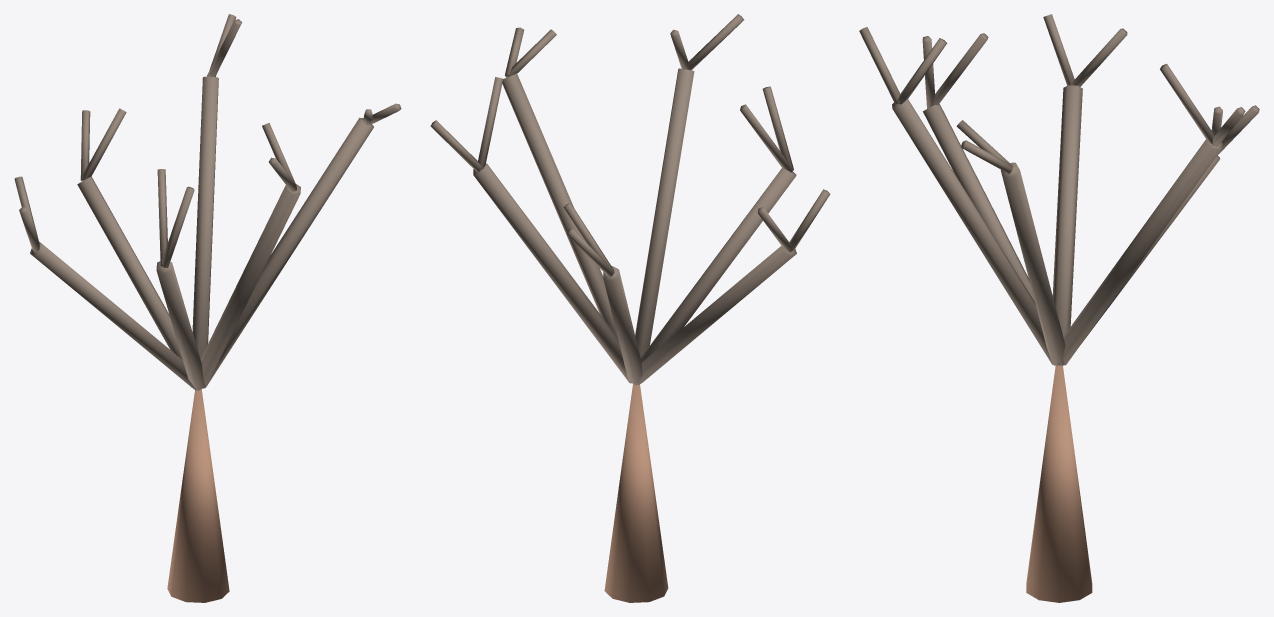
File: tree_c_winter.glb
3 views of the same model, side by side, from view 1: azimuth 30°, elevation 25°; view 2: azimuth 150°, elevation 25°; view 3: azimuth 270°, elevation 25° (orthographic). The views are drawn at different scales.
Visible parts, largest first — view 1: branches, trunk; view 2: branches, trunk; view 3: branches, trunk.
Boxes of the visible parts, x1,y1,x2,y2 form: branches: (14, 14, 401, 390); trunk: (167, 389, 229, 602); branches: (430, 14, 830, 385); trunk: (604, 384, 668, 602); branches: (859, 14, 1259, 365); trunk: (1026, 365, 1092, 602).
Size of the model in its own units: 3.51 by 5.03 by 3.2.
